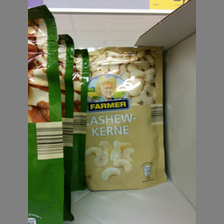nuts: (83, 47, 169, 192)
